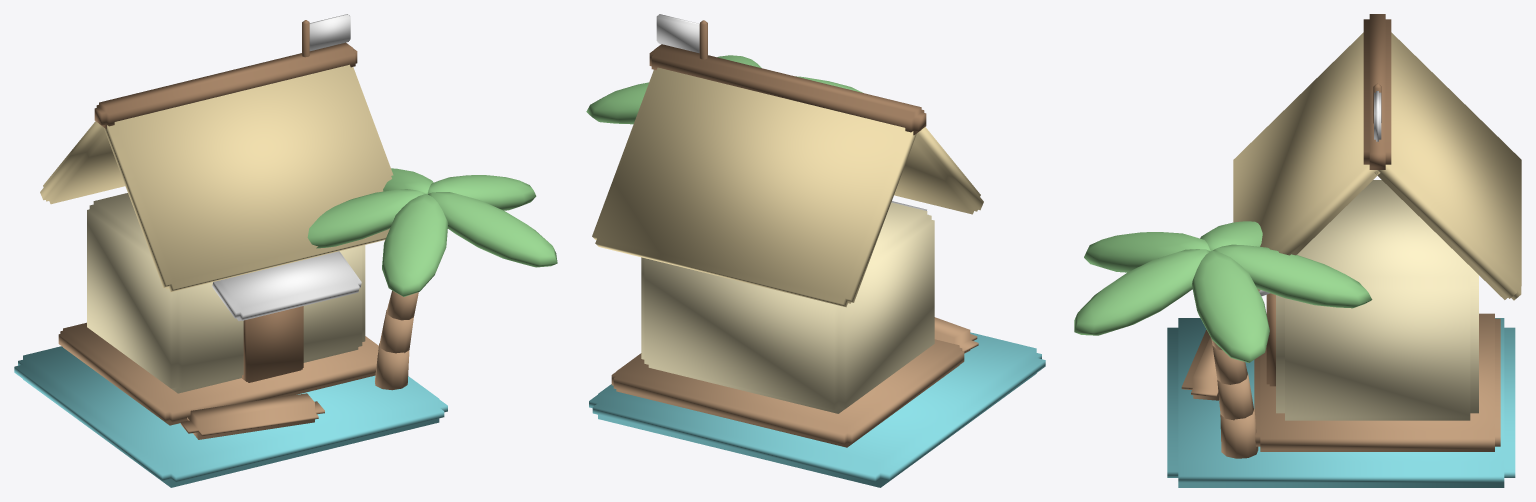
The model's file is lvl1_mientay.glb.
The picture shows the model from 3 angles, left to right: view 1: azimuth 30°, elevation 25°; view 2: azimuth 150°, elevation 25°; view 3: azimuth 270°, elevation 25°; orthographic projection. The views are drawn at different scales.
Parts seen in each view (by area): view 1: lvl1_mientay; view 2: lvl1_mientay; view 3: lvl1_mientay.
Part boxes in pixels (x1,y1,x2,y2): lvl1_mientay: (14,14,557,487); lvl1_mientay: (586,14,1045,487); lvl1_mientay: (1074,14,1521,487).
Bounding box in the file's own units: 0.7065 × 0.58 × 0.6179.
